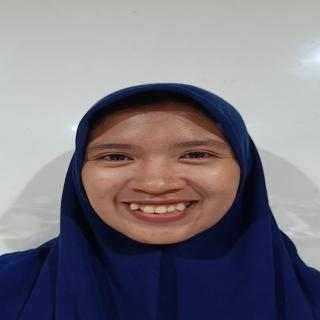Senang: (79, 97, 232, 251)
